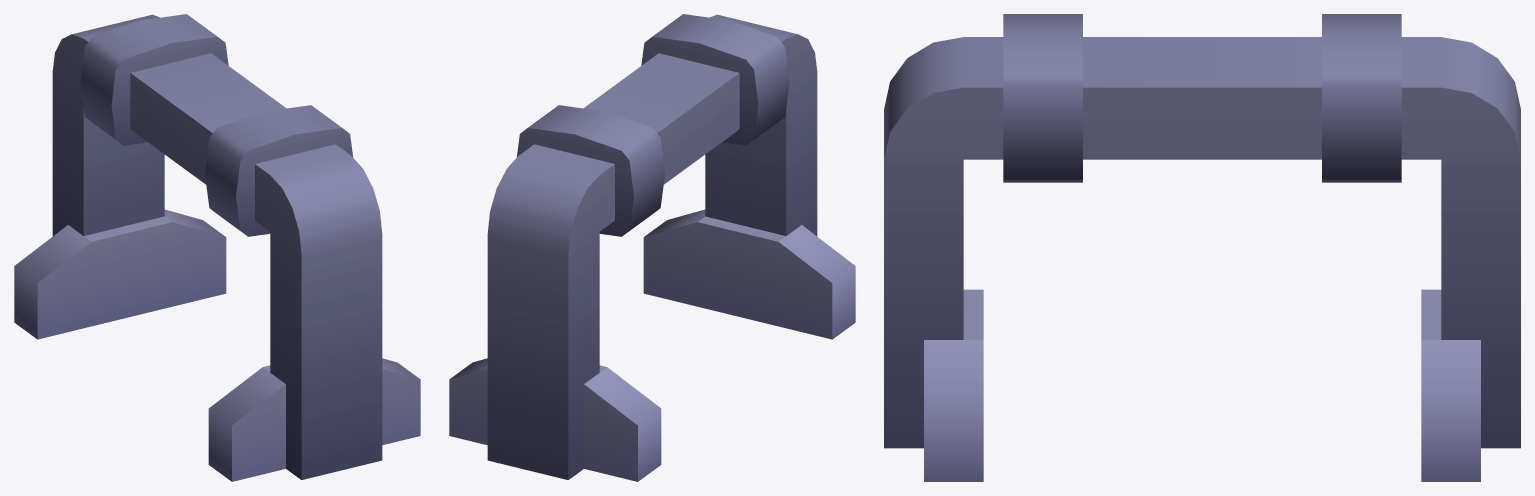
File: factory-scanner-low.glb
3 views of the same model, side by side, from view 1: azimuth 30°, elevation 25°; view 2: azimuth 150°, elevation 25°; view 3: azimuth 270°, elevation 25° (orthographic). The views are drawn at different scales.
Visible parts, largest first — view 1: scanner-low; view 2: scanner-low; view 3: scanner-low.
Boxes of the visible parts, bbox=[...] form: scanner-low: bbox=[14, 14, 420, 481]; scanner-low: bbox=[449, 14, 855, 481]; scanner-low: bbox=[884, 14, 1520, 481].
Size of the model in its own units: 0.7001 by 1.07 by 1.6.
Materials: 1 (1 with a texture image).
